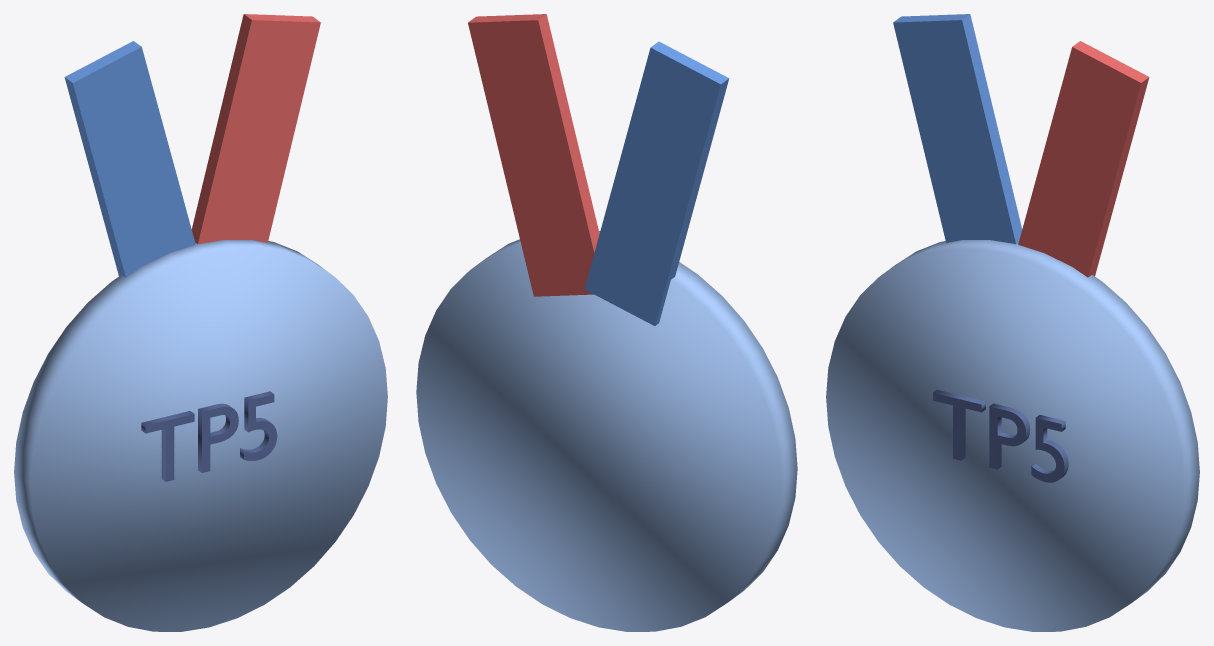
The model's file is ui_medal_tp5.glb.
3 views of the same model, side by side, from view 1: azimuth 30°, elevation 25°; view 2: azimuth 150°, elevation 25°; view 3: azimuth 330°, elevation 25° (orthographic).
Visible parts, largest first — view 1: medal_disc, medal_ribbon1, medal_ribbon0, medal_num; view 2: medal_disc, medal_ribbon1, medal_ribbon0; view 3: medal_disc, medal_ribbon0, medal_ribbon1, medal_num.
Part boxes in pixels (left/top/right/bottom): medal_disc: left=14, top=240, right=387, bottom=631; medal_ribbon1: left=191, top=14, right=320, bottom=243; medal_ribbon0: left=64, top=41, right=195, bottom=277; medal_num: left=141, top=391, right=277, bottom=481; medal_disc: left=416, top=231, right=797, bottom=631; medal_ribbon1: left=468, top=14, right=599, bottom=296; medal_ribbon0: left=584, top=41, right=729, bottom=325; medal_disc: left=826, top=240, right=1199, bottom=631; medal_ribbon0: left=893, top=14, right=1022, bottom=243; medal_ribbon1: left=1018, top=41, right=1149, bottom=277; medal_num: left=933, top=389, right=1068, bottom=482.
Bounding box in the file's own units: 0.05 × 0.0782 × 0.006.
